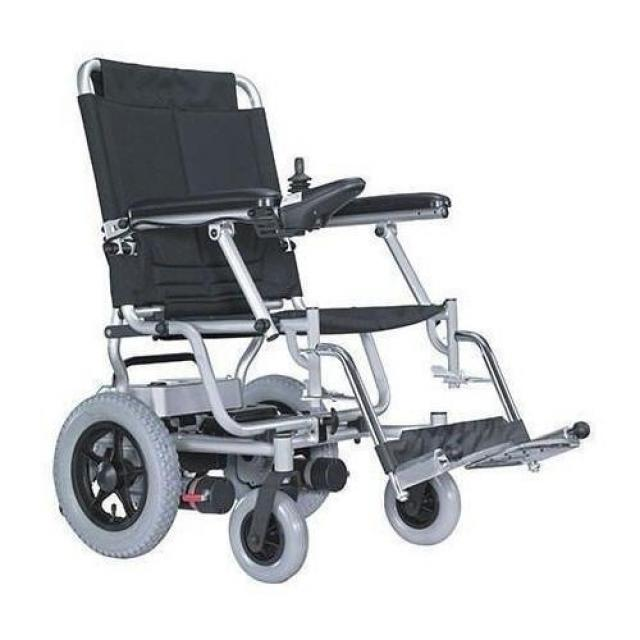wheelchair: (41, 40, 615, 595)
